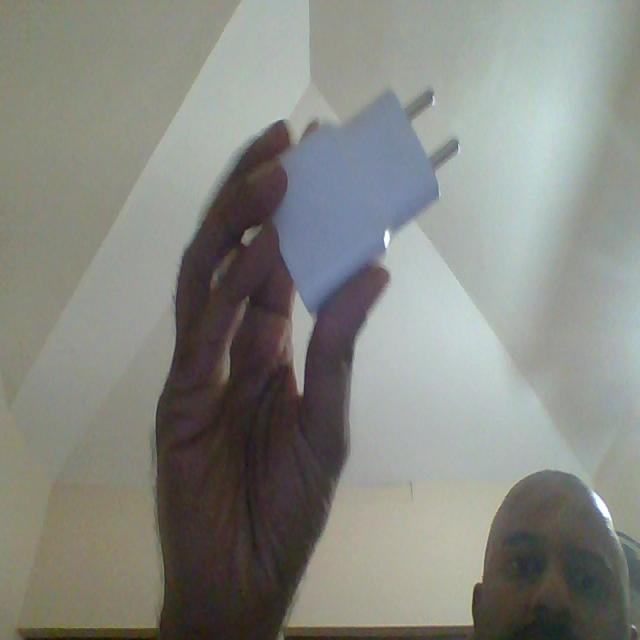charger: (272, 92, 439, 312)
